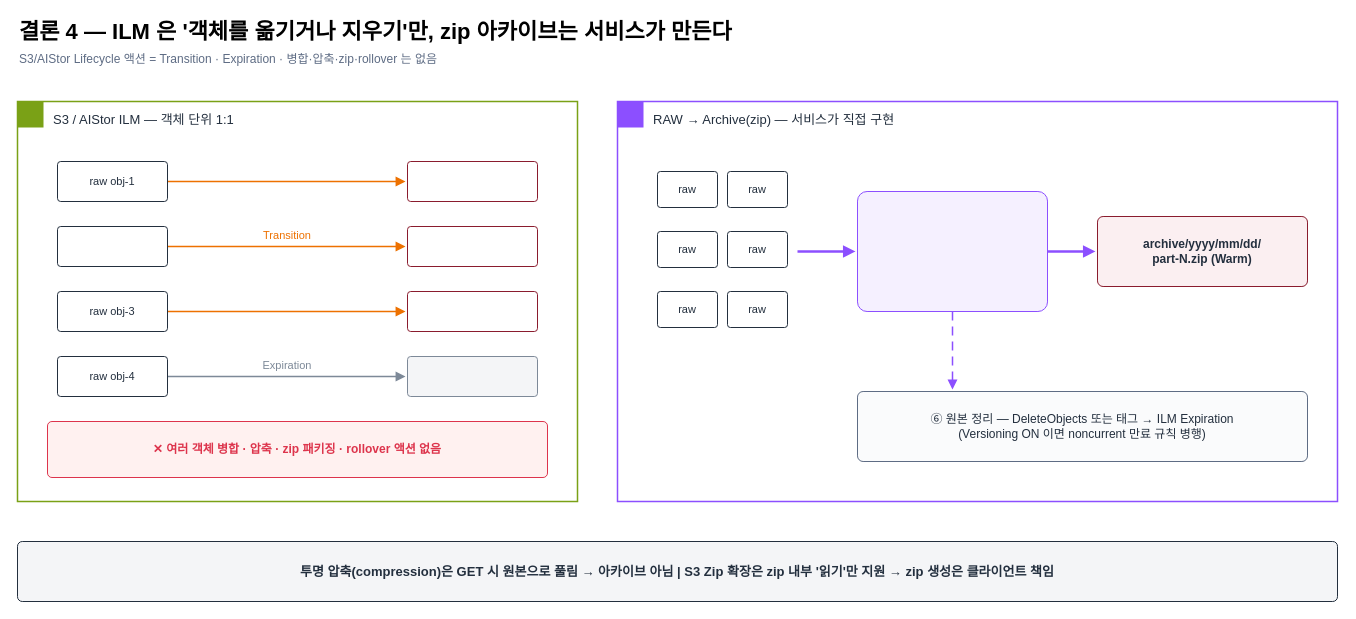
Image size: 1356x619. Some labels were removed from this diagram. The shapes that lost their labels are listed below. From the top down, each one's centre as x and y in pixels, then its label:
the point at 30,114: ILM
the point at 630,114: k8s
the point at 472,181: obj-1 (Warm)
the point at 112,246: raw obj-2
the point at 472,246: obj-2 (Warm)
the point at 952,251: Rollover Job (CronJob / Airflow) ① 선정 ② 읽기 ③ 압축 ④ 업로드 ⑤ 검증
the point at 472,311: obj-3 (Warm)
the point at 472,376: 삭제
